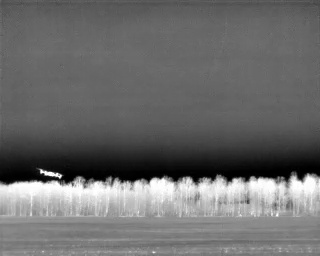DRONE: (35, 164, 65, 182)
